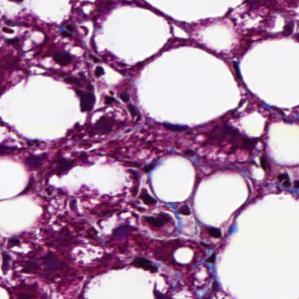inflammation: (78, 85, 130, 146), (31, 24, 82, 68)
